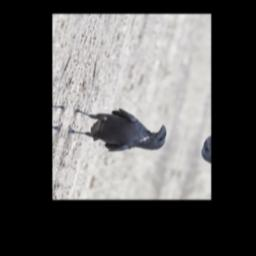Crow: (64, 98, 172, 164)
